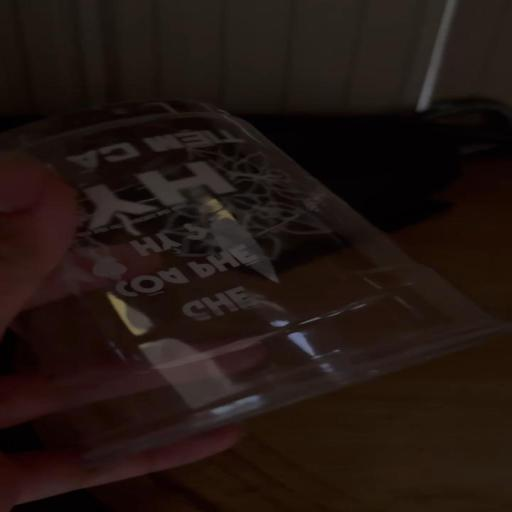ly_giay: (0, 102, 501, 461), (212, 207, 277, 282)
